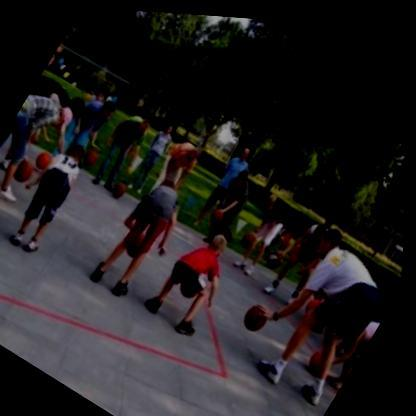basketball: (245, 297, 273, 330), (128, 230, 152, 259), (14, 159, 38, 185), (313, 343, 333, 368), (36, 147, 57, 169), (112, 178, 132, 200), (266, 246, 286, 267), (212, 203, 232, 224), (112, 177, 132, 197), (242, 226, 261, 247)
